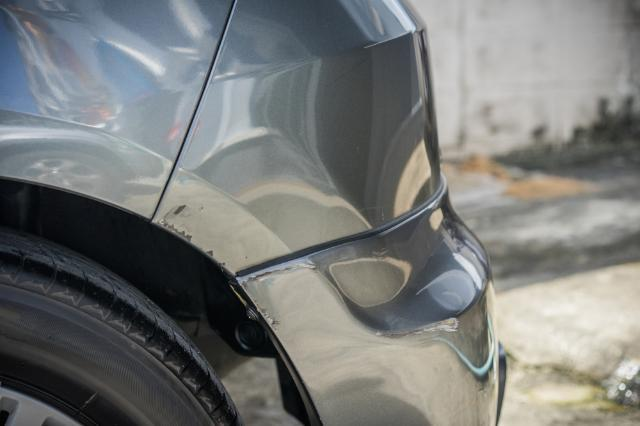scratch: (235, 256, 320, 329), (158, 204, 218, 260), (372, 315, 468, 343)
